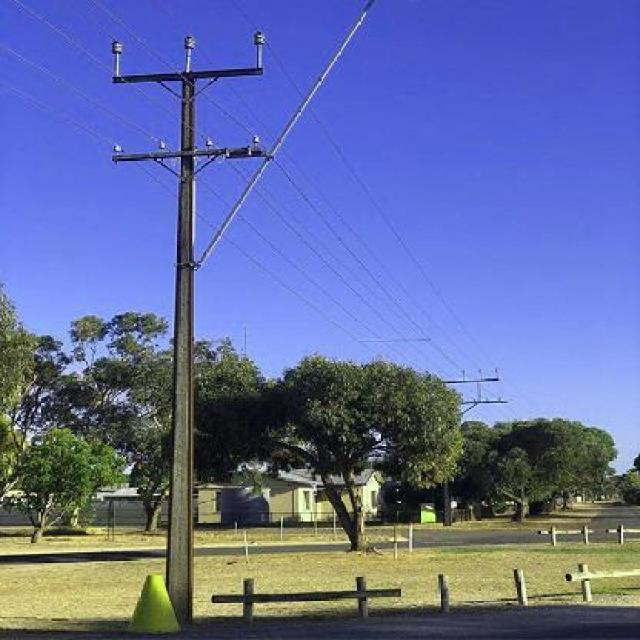light_pole: (99, 22, 279, 588)
